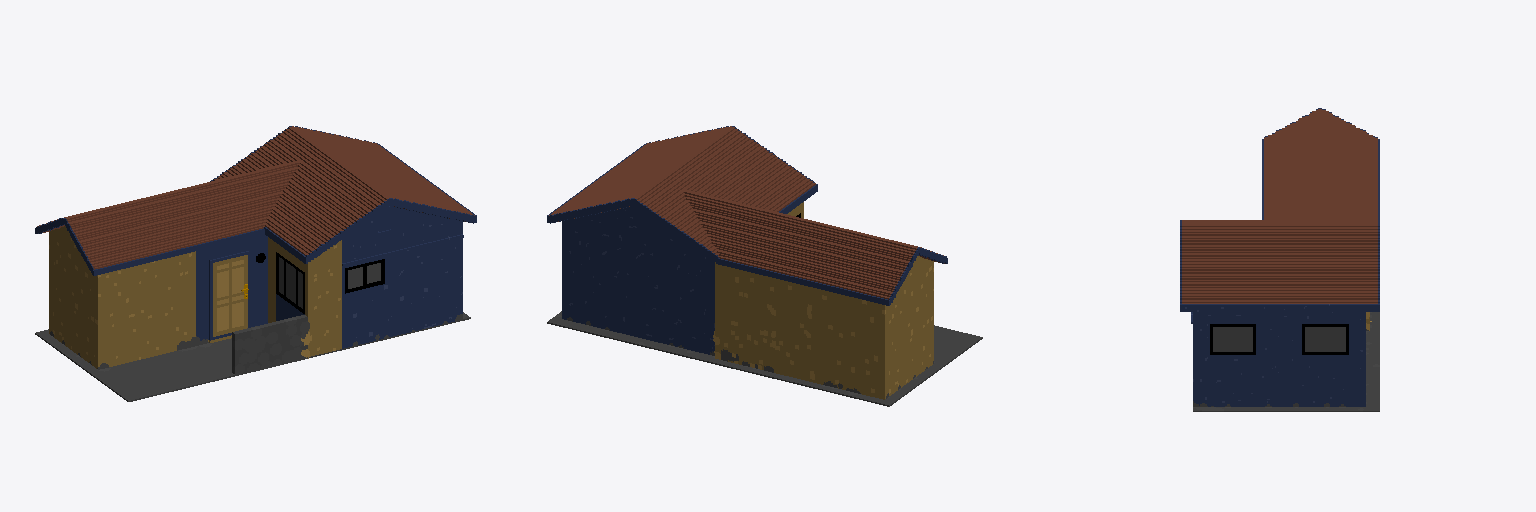
The picture shows the model from 3 angles: view 1: azimuth 30°, elevation 25°; view 2: azimuth 150°, elevation 25°; view 3: azimuth 270°, elevation 25°; orthographic projection.
Visible parts, largest first — view 1: object 1; view 2: object 1; view 3: object 1.
Boxes of the visible parts, box(x1,y1,x2,y2) form: object 1: box(35, 126, 476, 401); object 1: box(547, 126, 982, 406); object 1: box(1180, 108, 1379, 411).
Size of the model in its own units: 25.6 by 10.4 by 12.9.
1 materials, 1 textured.